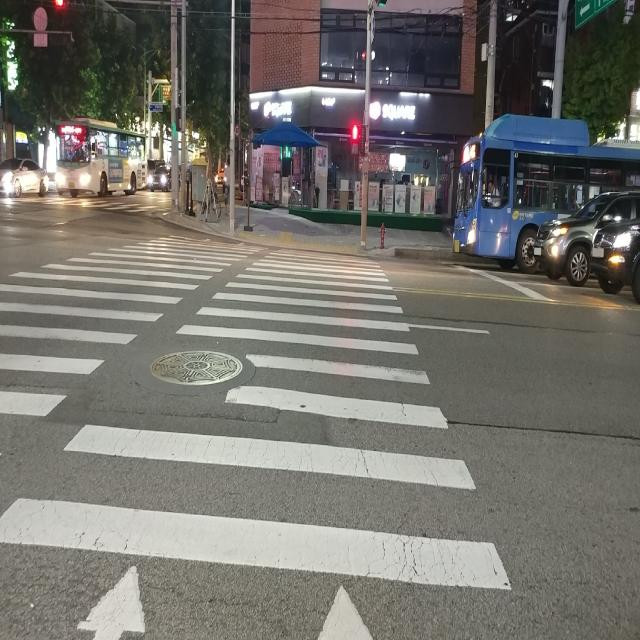빨간불: (352, 124, 359, 154)
횡단보도: (0, 233, 512, 639)
